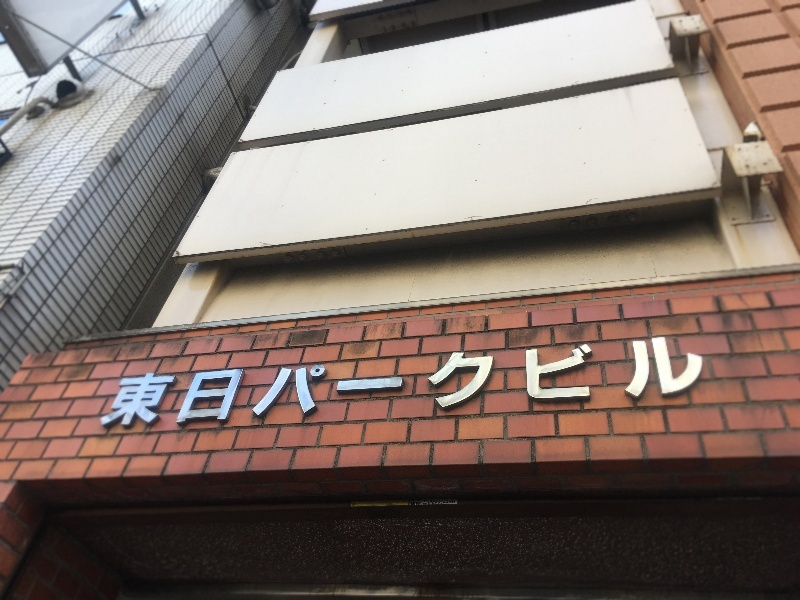text: (129, 330, 144, 431), (145, 330, 160, 431), (161, 330, 176, 431), (177, 330, 192, 431), (193, 330, 208, 431), (209, 330, 224, 431), (225, 330, 240, 431), (241, 330, 256, 431), (257, 330, 272, 431), (273, 330, 288, 431), (289, 330, 304, 431), (305, 330, 320, 431), (321, 330, 336, 431), (337, 330, 352, 431), (353, 330, 368, 431), (369, 330, 384, 431), (385, 330, 400, 431), (401, 330, 416, 431), (417, 330, 432, 431), (433, 330, 448, 431), (449, 330, 464, 431), (465, 330, 480, 431), (481, 330, 496, 431), (497, 330, 512, 431), (513, 330, 528, 431), (529, 330, 544, 431), (545, 330, 560, 431), (561, 330, 576, 431), (577, 330, 592, 431), (593, 330, 608, 431), (609, 330, 624, 431), (625, 330, 640, 431), (641, 330, 656, 431), (657, 330, 672, 431), (673, 330, 688, 431), (689, 330, 704, 431), (122, 330, 128, 431)
